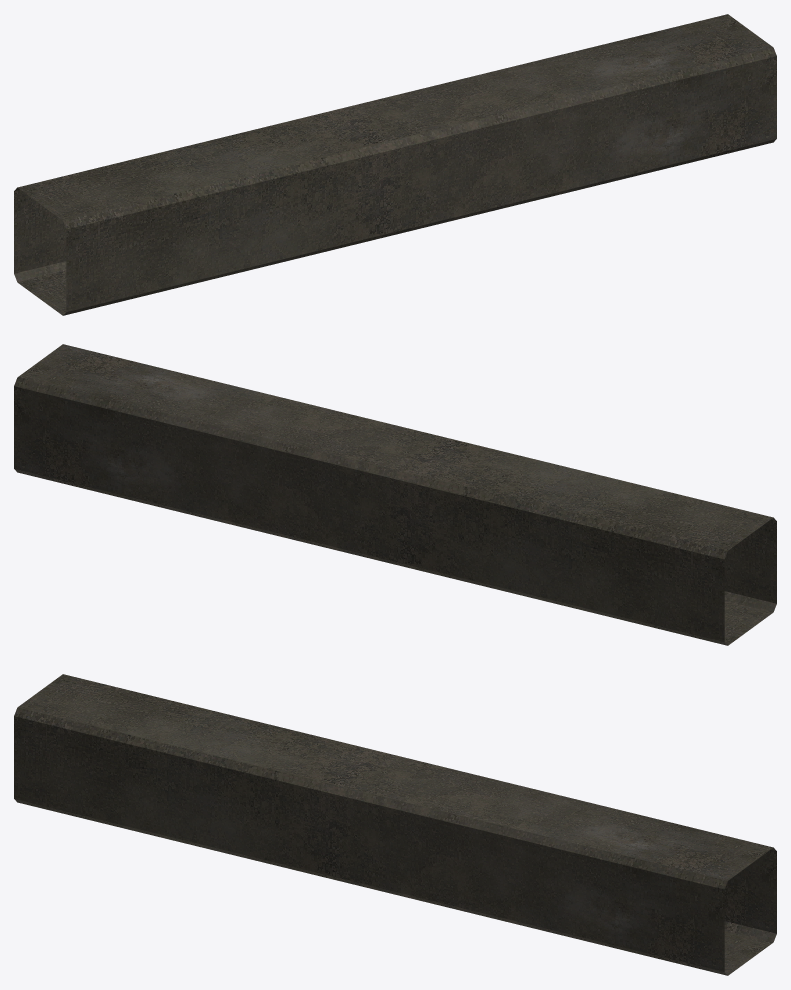
The model's file is beam_2.glb.
3 views of the same model, one above another, from view 1: azimuth 30°, elevation 25°; view 2: azimuth 150°, elevation 25°; view 3: azimuth 330°, elevation 25° (orthographic).
Visible parts, largest first — view 1: beam_2; view 2: beam_2; view 3: beam_2.
Part boxes in pixels (x1,y1,x2,y2): beam_2: (14,14,776,315); beam_2: (14,344,776,645); beam_2: (14,674,776,975).
Bounding box in the file's own units: 3.6 × 0.46 × 0.46.
Materials: 1 (1 with a texture image).
